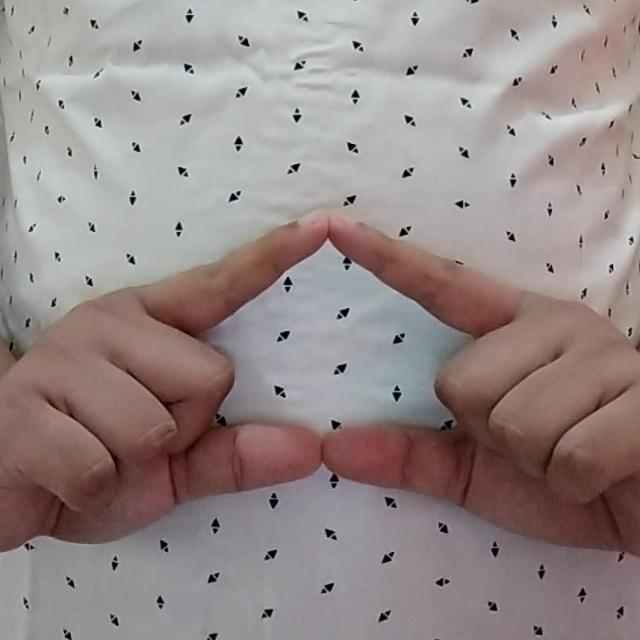A: (0, 210, 640, 554)
